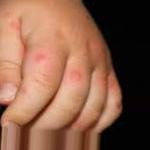Ants: (33, 49, 51, 67), (9, 18, 19, 32), (69, 70, 81, 81), (109, 78, 115, 91)
